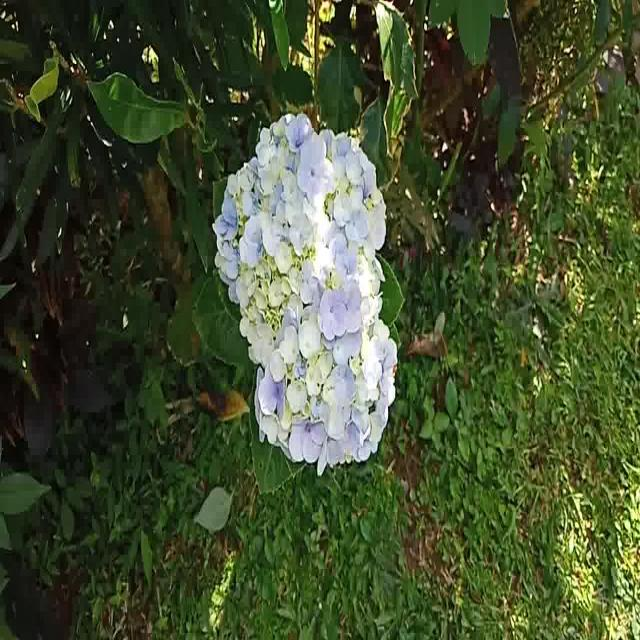Flower: (213, 104, 403, 468)
